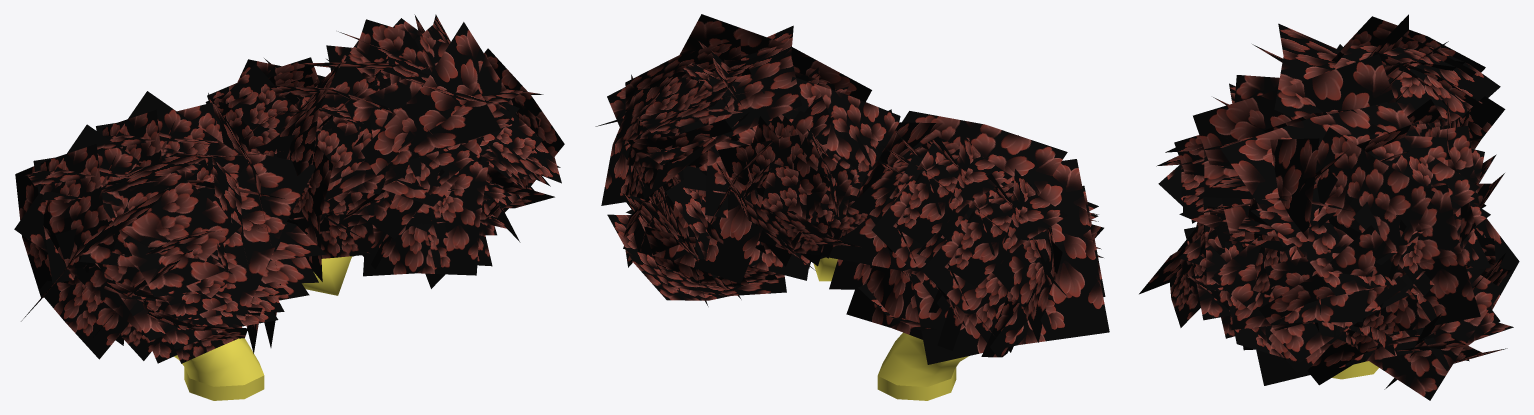
Rendered from 2_Arbol_Rojo_Degradado_UV_Chica.fbx.
The picture shows the model from 3 angles, left to right: view 1: azimuth 30°, elevation 25°; view 2: azimuth 150°, elevation 25°; view 3: azimuth 270°, elevation 25°; orthographic projection. The views are drawn at different scales.
Visible parts, largest first — view 1: 1_Arbol_Degradado.002; view 2: 1_Arbol_Degradado.002; view 3: 1_Arbol_Degradado.002.
Part boxes in pixels (<box>): 1_Arbol_Degradado.002: <box>14,14,564,400</box>; 1_Arbol_Degradado.002: <box>595,14,1109,400</box>; 1_Arbol_Degradado.002: <box>1139,14,1519,400</box>.
Size of the model in its own units: 997 by 575 by 576.
